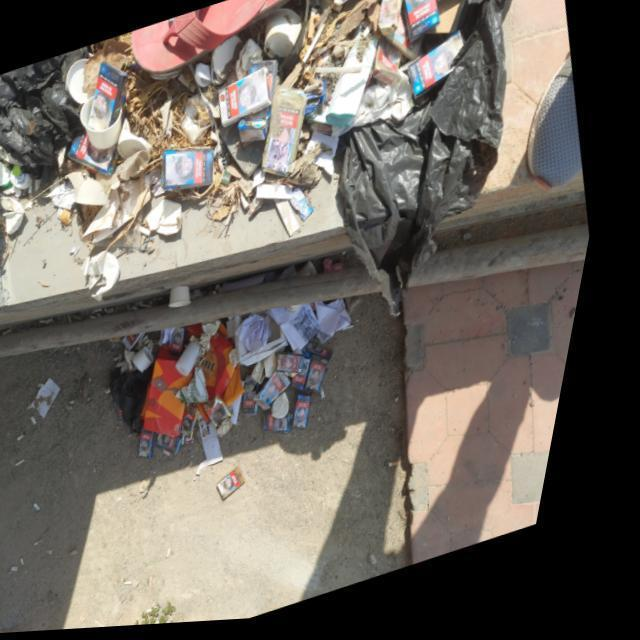Background: (0, 298, 432, 636), (0, 186, 360, 333)
Cig_bud: (304, 27, 326, 67), (325, 0, 343, 15), (309, 15, 317, 42), (309, 85, 326, 96), (364, 26, 374, 42), (118, 622, 131, 630), (152, 337, 161, 346), (54, 540, 63, 548), (315, 16, 321, 27), (34, 433, 42, 441), (33, 460, 42, 467), (407, 467, 417, 473), (53, 504, 60, 512), (46, 417, 53, 425), (160, 341, 166, 350), (188, 551, 193, 561), (170, 579, 175, 589), (103, 617, 110, 624), (3, 443, 10, 450), (105, 309, 114, 314), (146, 583, 154, 588), (33, 567, 41, 572), (163, 345, 167, 354), (165, 299, 174, 303), (102, 316, 111, 320), (42, 405, 48, 411), (153, 306, 164, 309), (42, 559, 46, 567), (158, 341, 163, 347), (68, 550, 73, 556), (52, 384, 59, 388), (3, 589, 10, 593), (145, 308, 151, 312), (84, 401, 90, 405), (161, 303, 165, 306)
Cig_pack: (268, 91, 311, 180), (410, 37, 466, 104), (222, 70, 276, 129), (93, 63, 131, 132), (168, 150, 220, 193), (74, 135, 124, 177), (306, 346, 347, 397), (404, 0, 440, 45), (375, 41, 405, 92), (270, 375, 306, 411), (220, 399, 248, 430), (236, 471, 263, 503), (198, 407, 216, 446), (319, 346, 347, 369), (309, 398, 327, 433), (321, 365, 340, 397), (307, 362, 325, 395), (172, 435, 199, 457), (279, 416, 308, 436), (291, 357, 318, 378), (183, 329, 199, 359), (135, 334, 157, 353), (259, 394, 274, 420), (157, 433, 170, 460), (316, 125, 338, 140), (292, 357, 307, 376), (319, 359, 321, 361)
Garbage: (0, 0, 515, 319), (125, 303, 364, 460), (237, 471, 263, 503), (218, 437, 240, 471)
Plastic: (133, 0, 292, 79)
Plastic_Bag: (347, 0, 515, 321), (0, 47, 90, 177), (125, 367, 168, 435)
Plastic_Straw: (316, 71, 366, 81)
Plastic_wraper: (298, 190, 322, 224), (309, 84, 331, 120)
Tetrapack: (243, 110, 276, 146), (254, 62, 281, 101)
